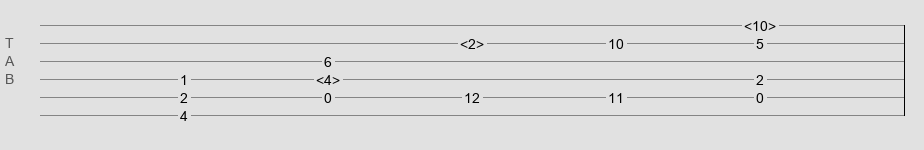0: (324, 90, 332, 100), (756, 90, 764, 100)
1: (180, 72, 188, 82)
10: (608, 36, 624, 46)
11: (608, 90, 624, 100)
12: (464, 90, 480, 100)
2: (180, 90, 188, 100), (756, 72, 764, 82)
4: (180, 108, 188, 118)
5: (756, 36, 764, 46)
6: (324, 54, 332, 64)
harmonic: (744, 18, 776, 28), (316, 72, 340, 82), (460, 36, 484, 46)
